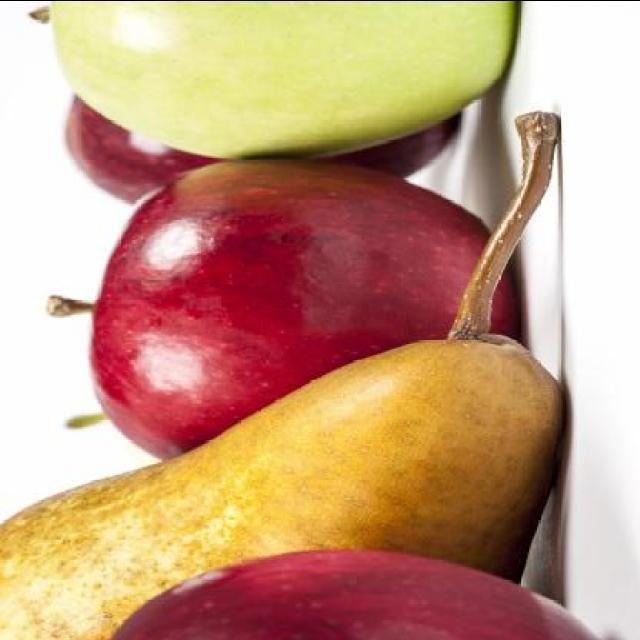Pear: (0, 332, 568, 640)
